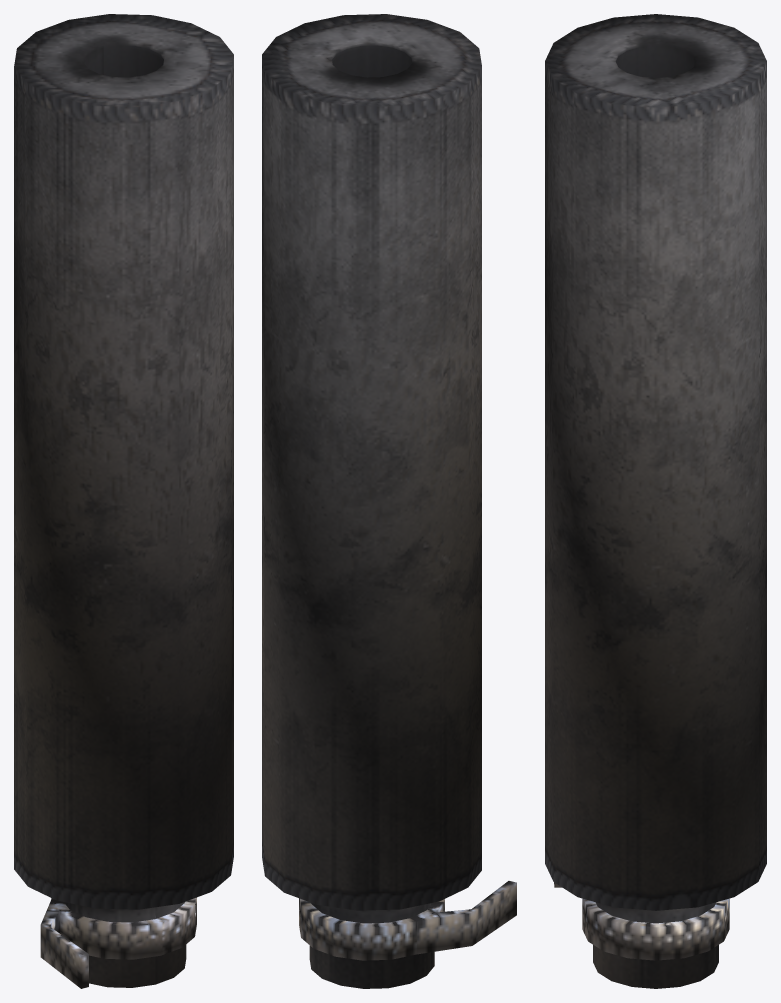
File: TLOG_ImprovisedSuppressor.fbx
3 views of the same model, side by side, from view 1: azimuth 30°, elevation 25°; view 2: azimuth 150°, elevation 25°; view 3: azimuth 270°, elevation 25° (orthographic).
Visible parts, largest first — view 1: Cylinder.001; view 2: Cylinder.001; view 3: Cylinder.001.
Boxes of the visible parts, x1,y1,x2,y2 form: Cylinder.001: (14, 14, 233, 988); Cylinder.001: (262, 14, 516, 988); Cylinder.001: (545, 14, 766, 988).
Size of the model in its own units: 0.0254 by 0.1139 by 0.0254.
